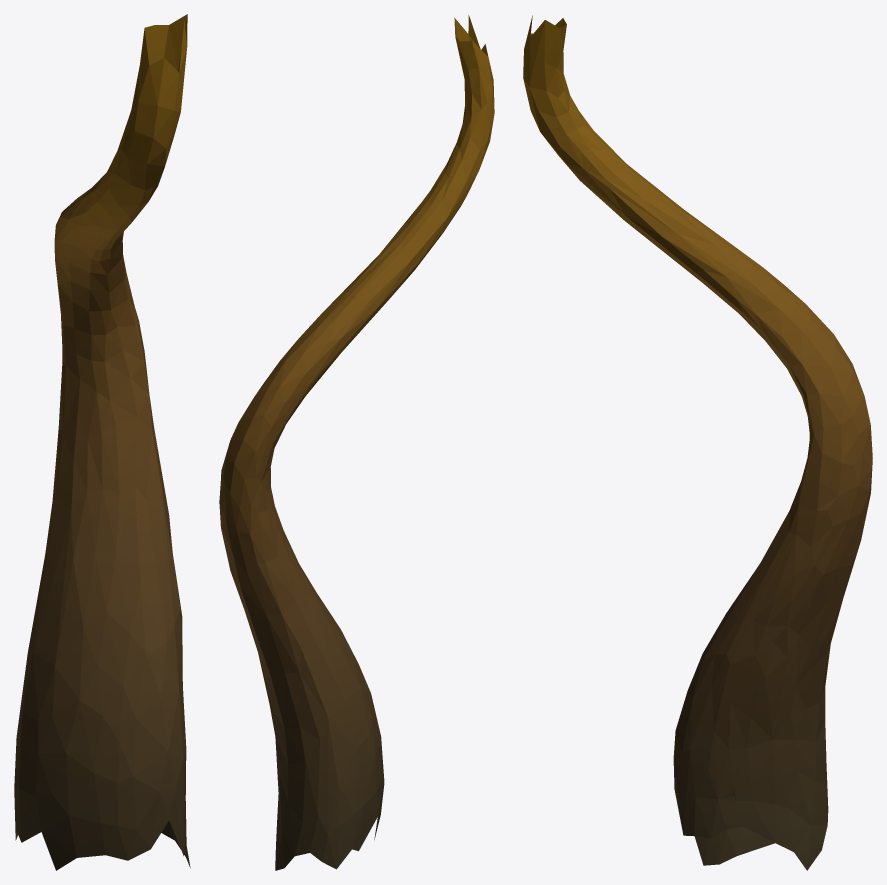
The model's file is SM_Branch_03.fbx.
3 renders of one model, left to right at view 1: azimuth 30°, elevation 25°; view 2: azimuth 150°, elevation 25°; view 3: azimuth 270°, elevation 25°, orthographic. The views are drawn at different scales.
Parts seen in each view (by area): view 1: SM_Branch_03; view 2: SM_Branch_03; view 3: SM_Branch_03.
Boxes of the visible parts, x1,y1,x2,y2 form: SM_Branch_03: (14,14,190,870); SM_Branch_03: (219,15,494,870); SM_Branch_03: (523,15,872,870).
Size of the model in its own units: 85.59 by 452 by 174.
